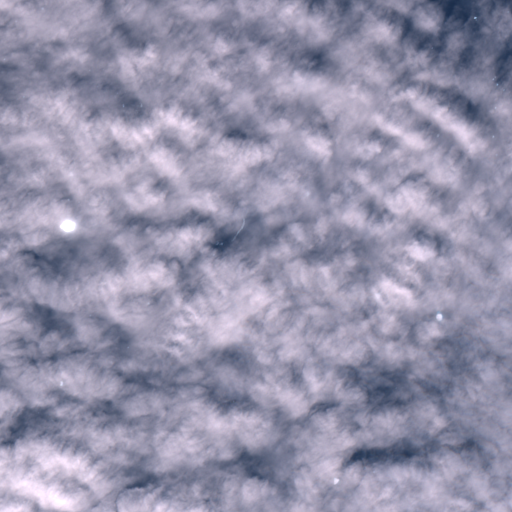Iceberg: (59, 219, 75, 232), (436, 313, 442, 320), (334, 478, 339, 484), (60, 381, 62, 385), (474, 17, 476, 20), (496, 84, 498, 85), (437, 134, 438, 136), (492, 135, 493, 137), (492, 78, 493, 79)
